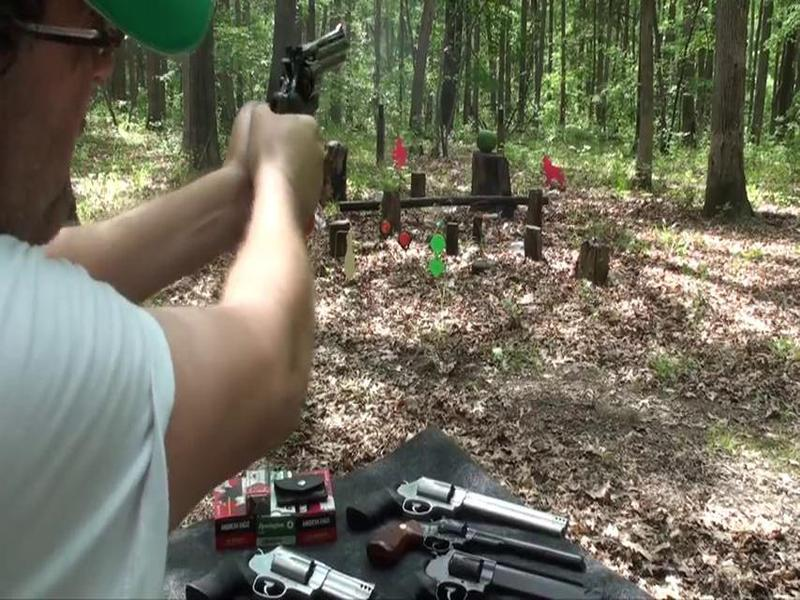Revolver: (260, 16, 357, 141)
